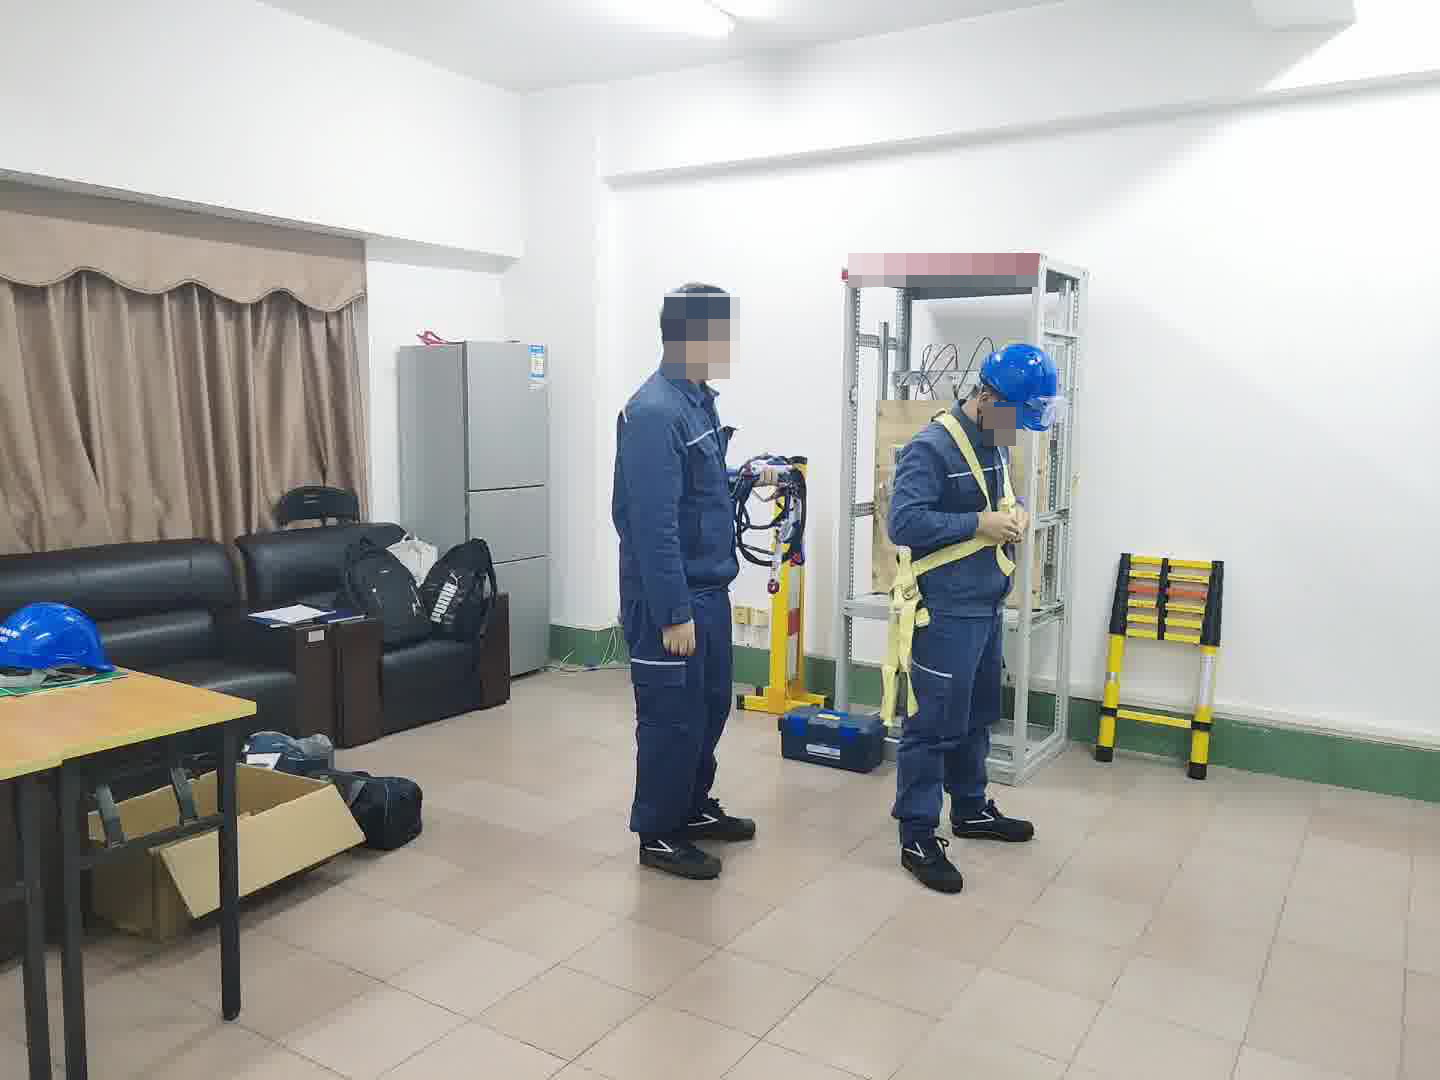downsuit: (624, 611, 737, 834), (896, 621, 1007, 831)
halt: (976, 338, 1062, 438), (273, 485, 361, 529)
hand: (978, 506, 1020, 544), (664, 624, 703, 652), (755, 464, 780, 489)
inear: (978, 386, 1001, 430)
noear: (683, 327, 714, 371)
person: (885, 337, 1061, 880), (609, 281, 762, 872)
safebelt: (876, 404, 1037, 727)
unhalt: (658, 282, 744, 379)
upsuit: (881, 397, 1023, 719), (612, 364, 739, 588)
